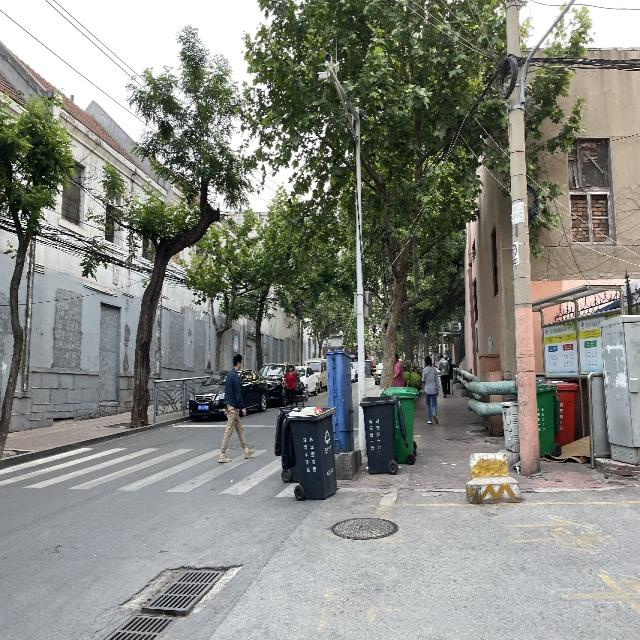garbage_bin: (358, 395, 408, 474), (380, 387, 418, 462), (546, 380, 579, 446), (536, 382, 558, 456)
overflow: (280, 405, 336, 499)
